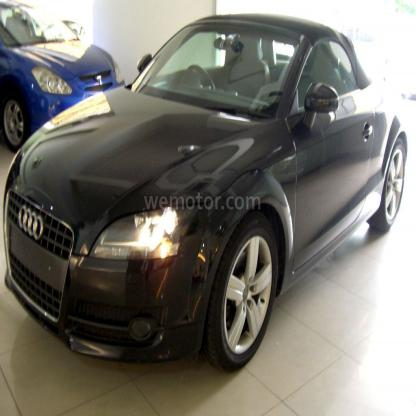Vehicle: (4, 17, 408, 374)
